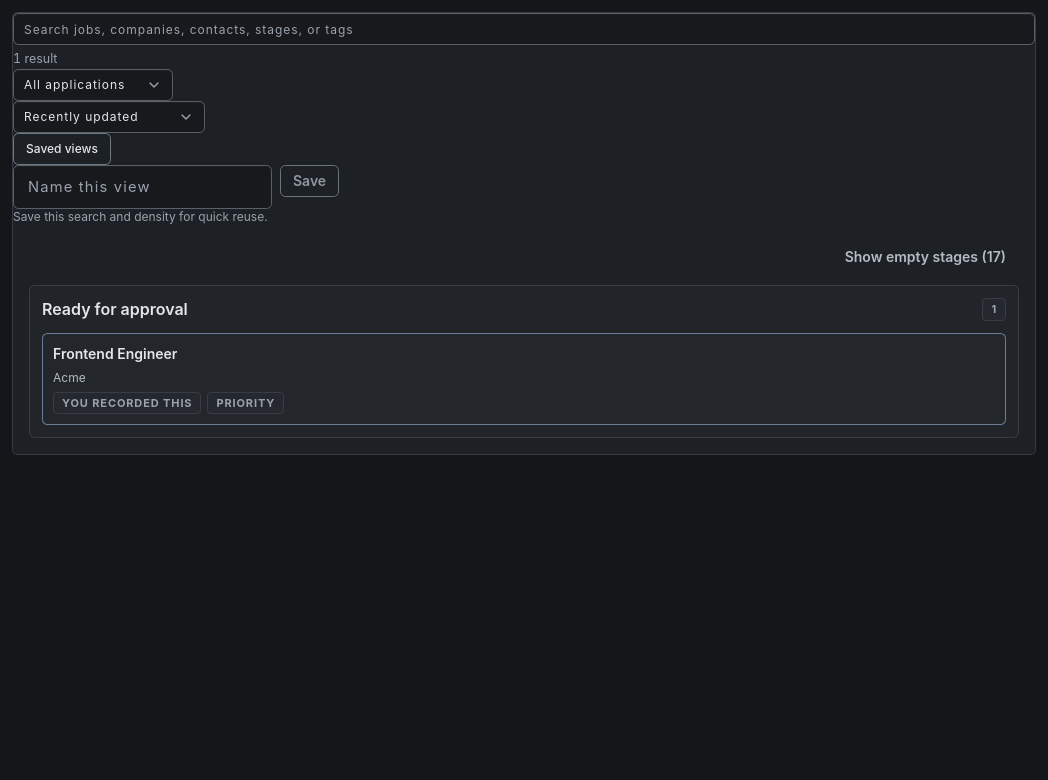
Test: ApplicationsCrmViews locked pane scroll regions › marks only the bounded board scroller in the Kanban view
Expected: the text "Frontend Engineer" is shown, 53,344 -> 177,362
Expected: the heading "Discovered" is not shown
What coordinates should you click on to do the following:
click the button "Show empty stages (17)"
I would click on:
 (925, 257)
Its box is 832,241 -> 1019,273.
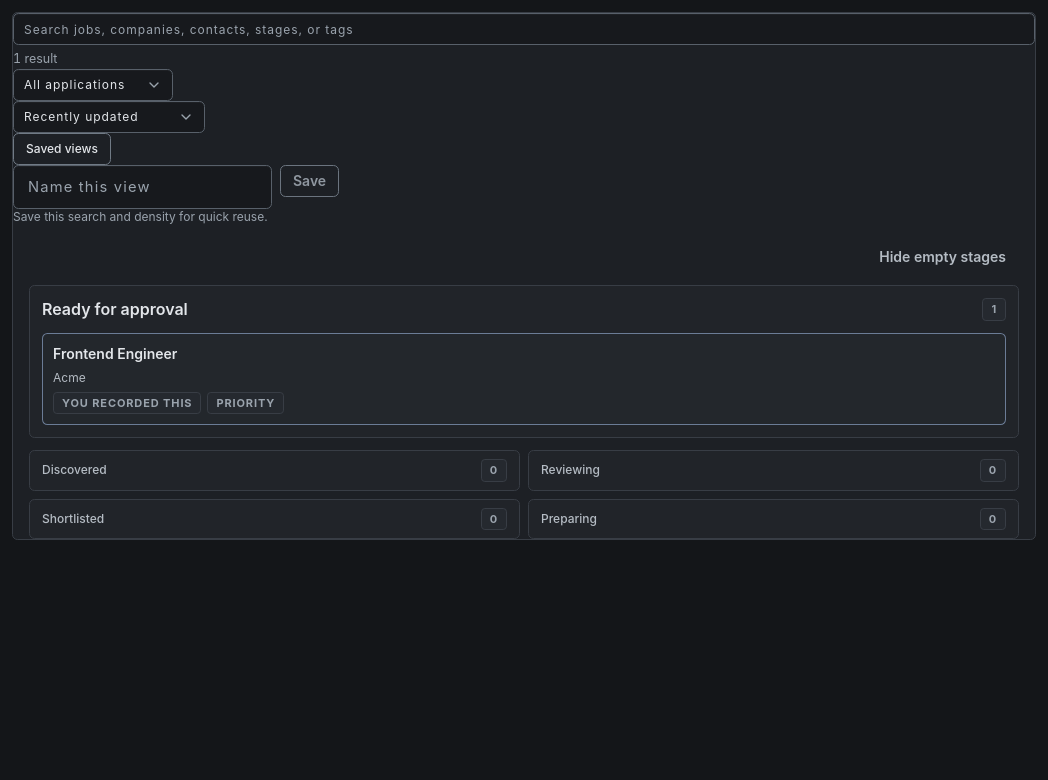
Expected: the text "Frontend Engineer" is shown, 42,332 -> 1006,425
Result: the text "Discovered" is shown at 42,462 -> 107,478
